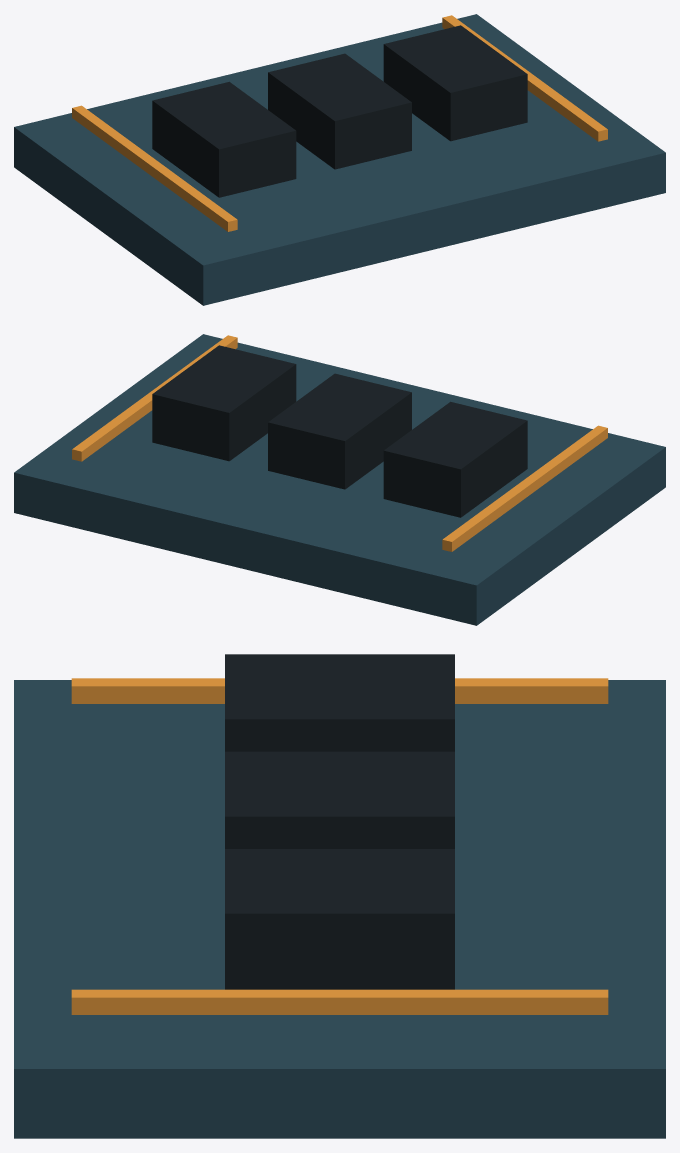
File: basic_control_board.glb
3 renders of one model, top to bottom at view 1: azimuth 30°, elevation 25°; view 2: azimuth 150°, elevation 25°; view 3: azimuth 270°, elevation 25°, orthographic. The views are drawn at different scales.
Parts seen in each view (by area): view 1: CircuitBoard, Processor, Processor.002, Processor.001, Bus, Bus.001; view 2: CircuitBoard, Processor, Processor.002, Processor.001, Bus, Bus.001; view 3: CircuitBoard, Processor.002, Processor, Processor.001, Bus.001, Bus.
Boxes of the visible parts, bbox=[...] form: CircuitBoard: bbox=[14, 14, 665, 305]; Processor: bbox=[152, 81, 296, 197]; Processor.002: bbox=[383, 25, 527, 141]; Processor.001: bbox=[268, 53, 411, 169]; Bus: bbox=[72, 105, 237, 231]; Bus.001: bbox=[442, 15, 607, 141]; CircuitBoard: bbox=[14, 334, 665, 625]; Processor: bbox=[383, 401, 527, 517]; Processor.002: bbox=[152, 345, 296, 461]; Processor.001: bbox=[268, 373, 411, 489]; Bus: bbox=[442, 425, 607, 551]; Bus.001: bbox=[72, 335, 237, 461]; CircuitBoard: bbox=[14, 680, 665, 1138]; Processor.002: bbox=[225, 849, 454, 989]; Processor: bbox=[225, 654, 454, 751]; Processor.001: bbox=[225, 751, 454, 848]; Bus.001: bbox=[71, 989, 608, 1014]; Bus: bbox=[71, 678, 608, 703].
Bounding box in the file's own units: 1.2 × 0.23 × 0.85.
